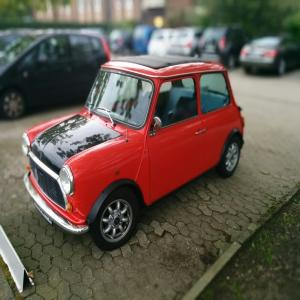Vehicle-registration-plate: (35, 202, 53, 229)
